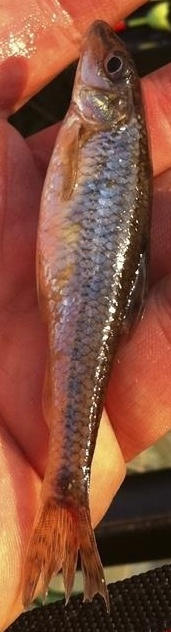Gobio gobio: (20, 20, 151, 612)
